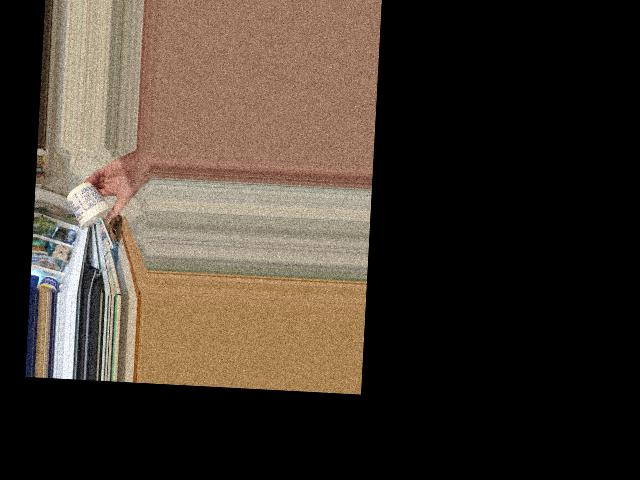cotage: (64, 179, 112, 232)
